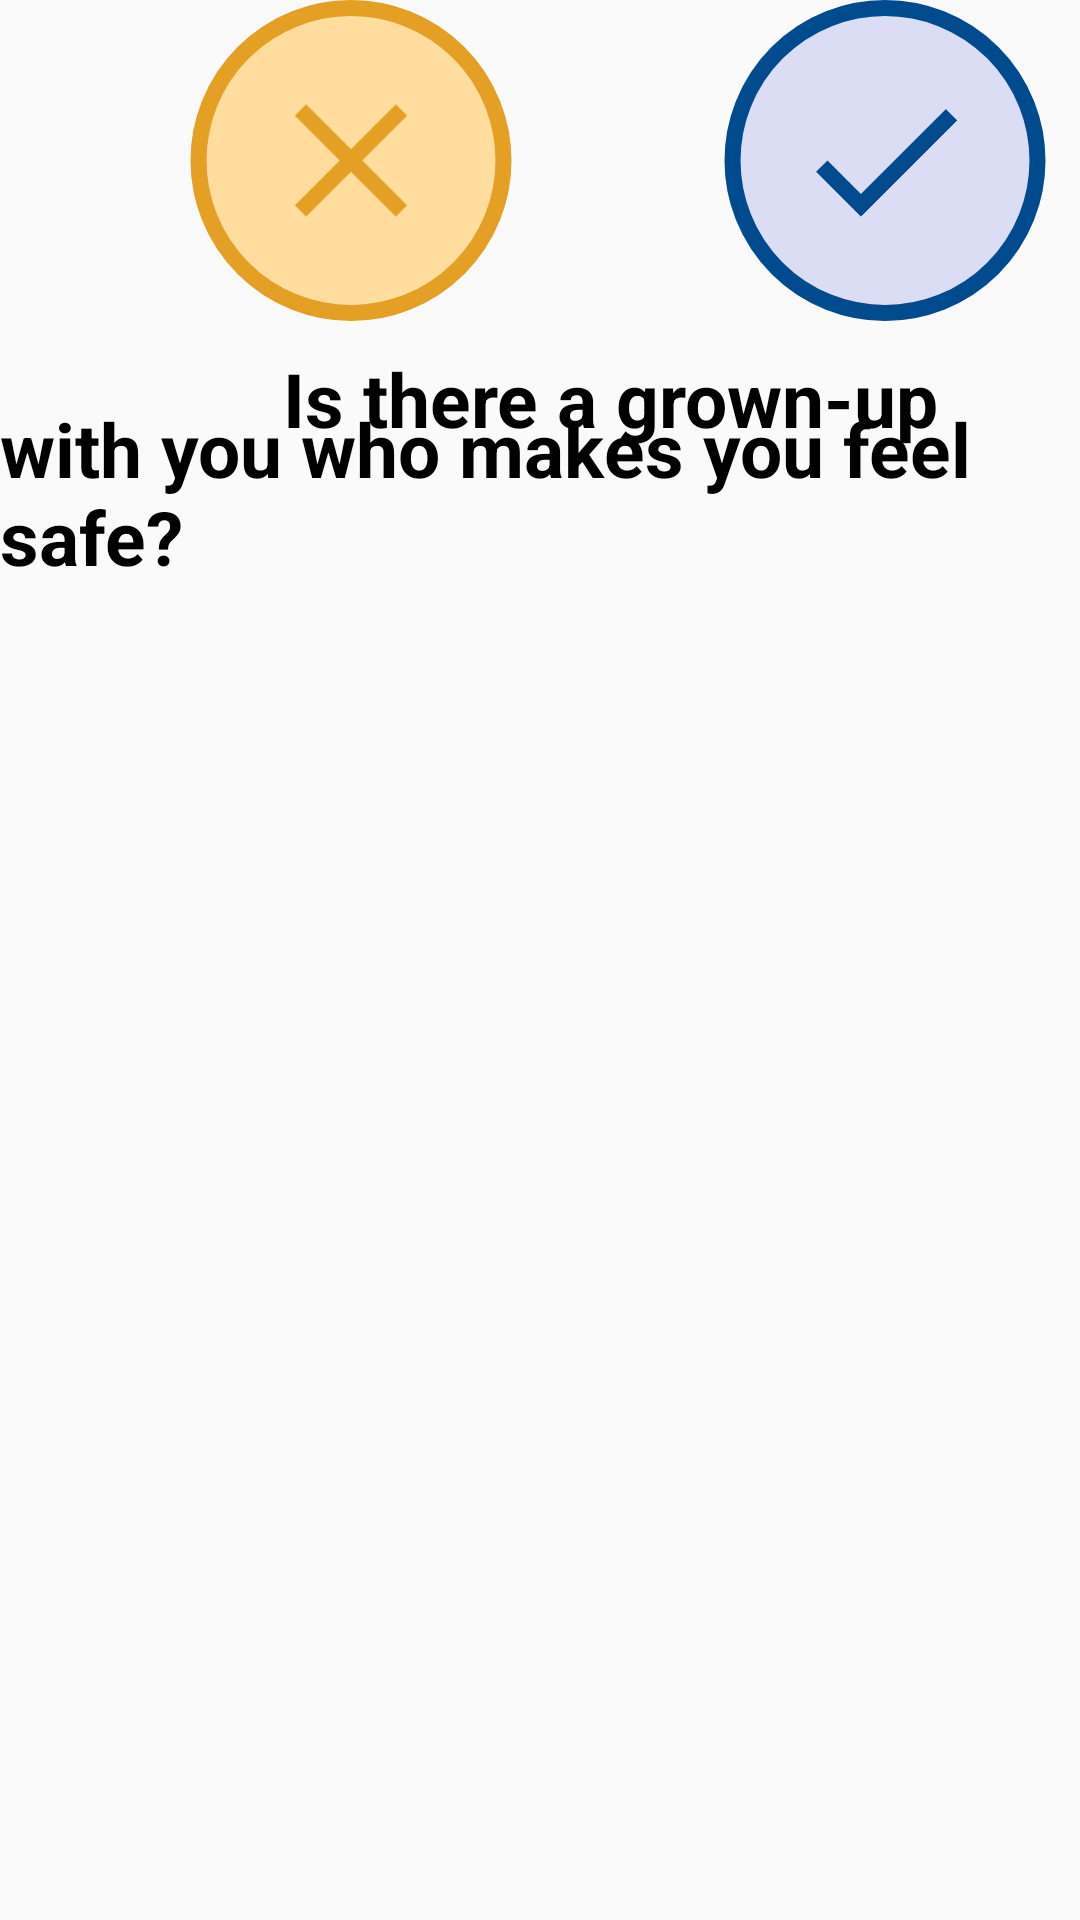

Where to tap for icons on this 1080 × 1920 app screen, as (x,y):
close: (351,160)
tick: (885,160)
